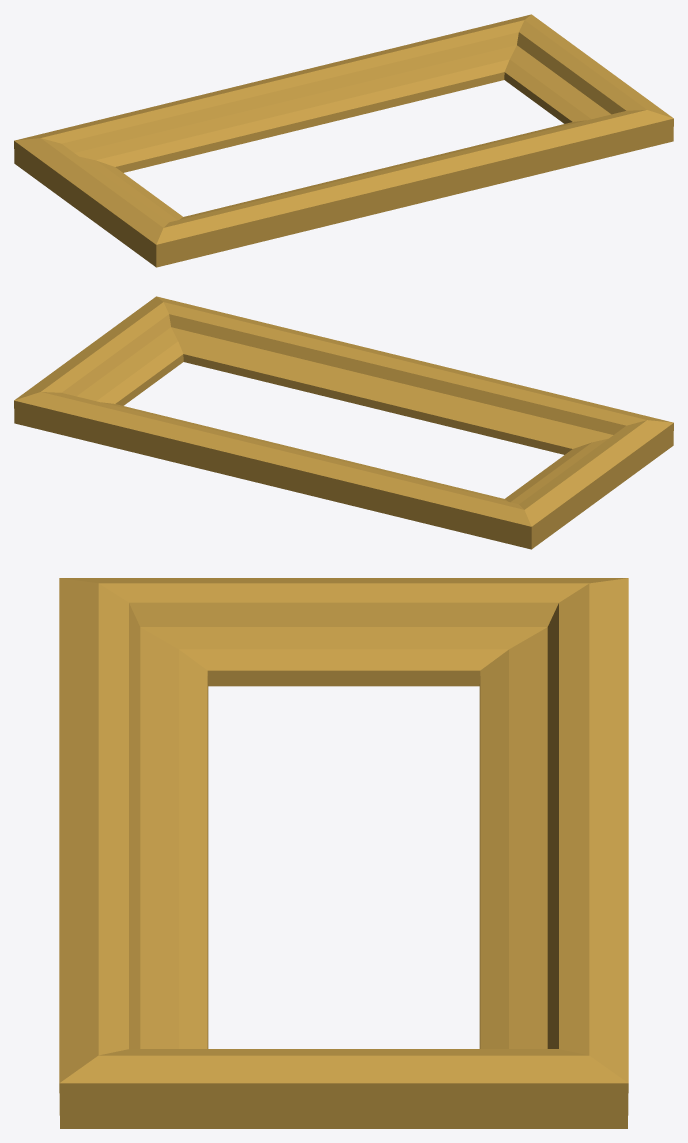
File: pictureFrame.gltf
The picture shows the model from 3 angles, top to bottom: view 1: azimuth 30°, elevation 25°; view 2: azimuth 150°, elevation 25°; view 3: azimuth 270°, elevation 25°; orthographic projection. The views are drawn at different scales.
Visible parts, largest first — view 1: Plane; view 2: Plane; view 3: Plane.
Part boxes in pixels (bbox=[...]): Plane: bbox=[14, 14, 673, 267]; Plane: bbox=[14, 296, 673, 549]; Plane: bbox=[59, 578, 628, 1128].
Bounding box in the file's own units: 57.27 × 3.02 × 27.27.
